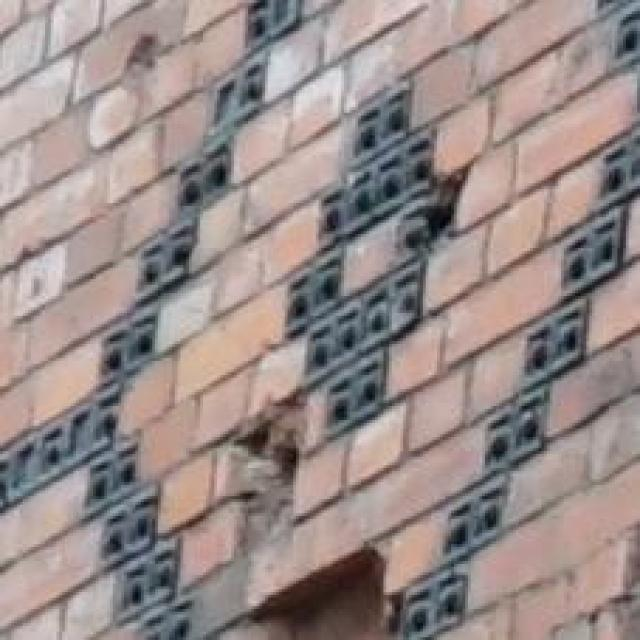Crack: (202, 419, 399, 640)
